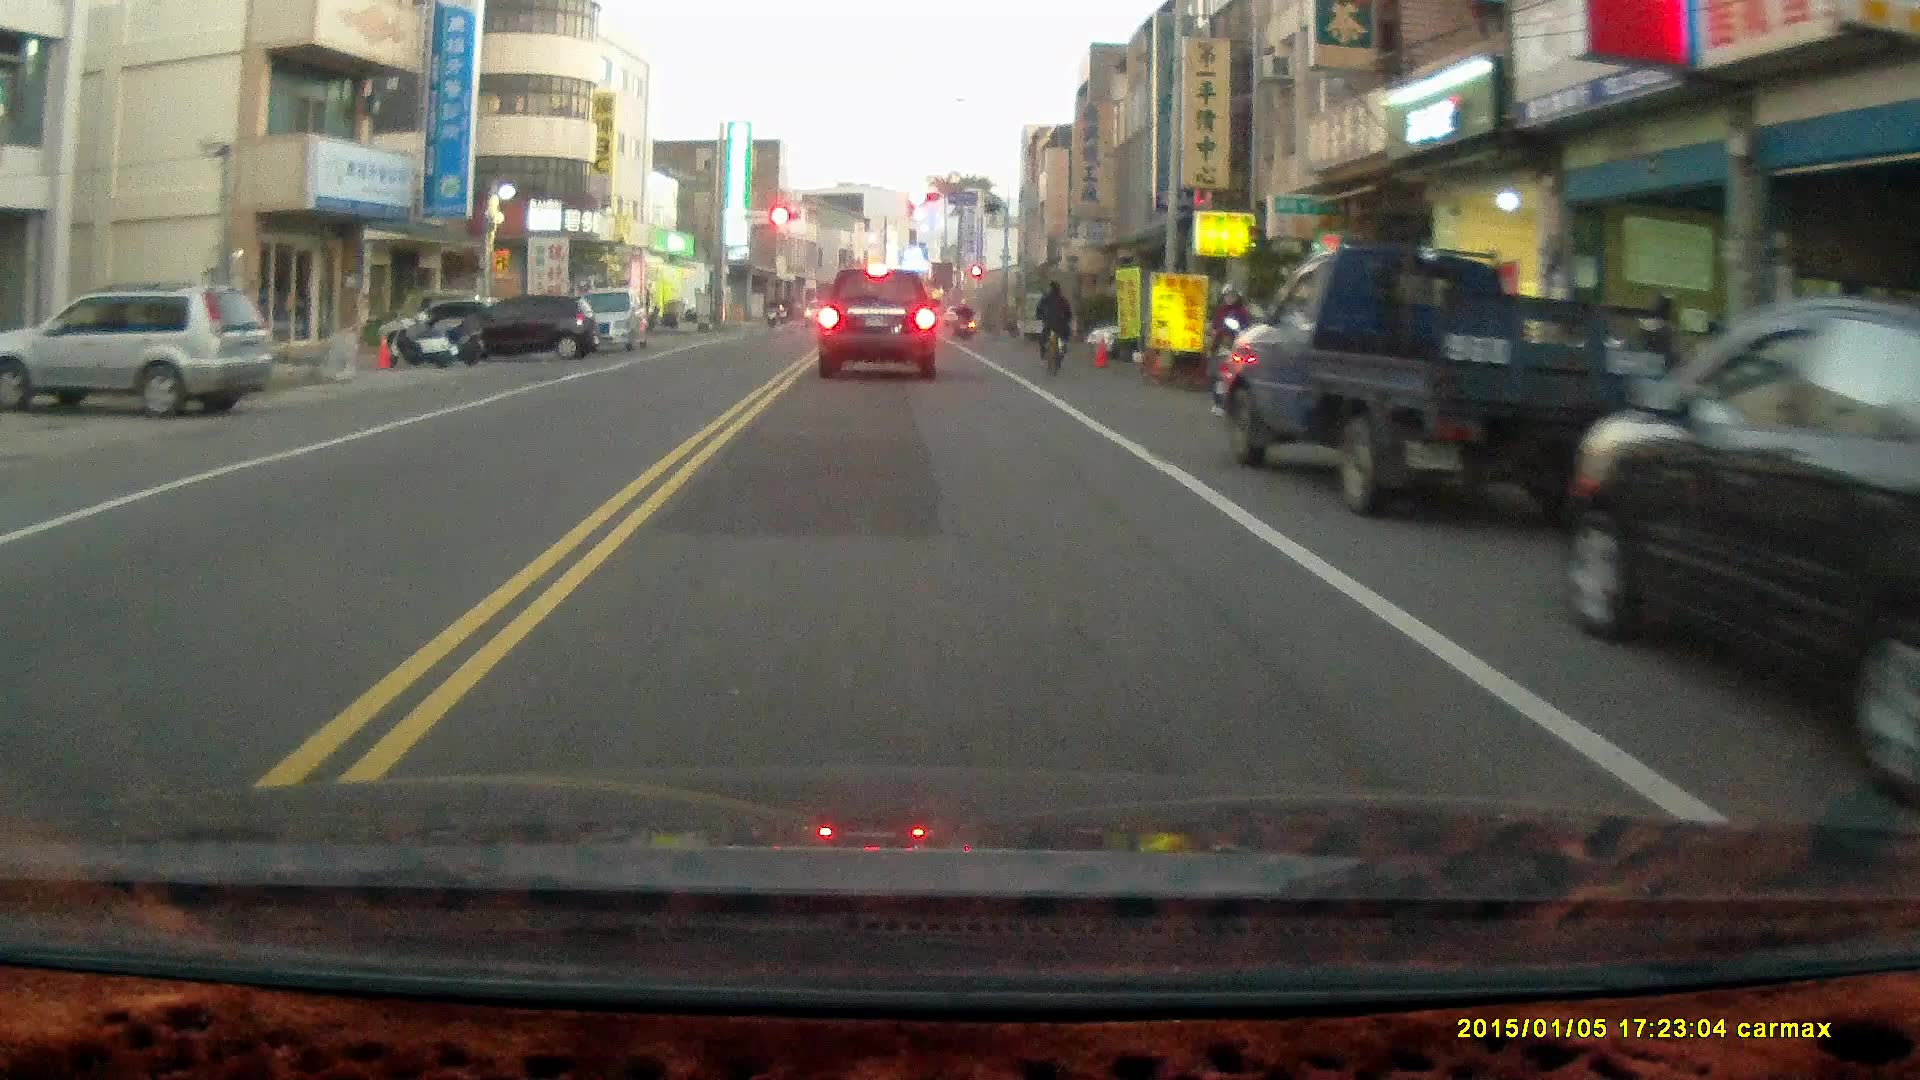pedestrian: (1206, 283, 1248, 410)
rider: (1034, 281, 1073, 381)
vehicle: (1572, 300, 1920, 731), (1208, 244, 1688, 520), (3, 280, 279, 414), (818, 271, 943, 378), (444, 294, 606, 358), (551, 287, 654, 354)
